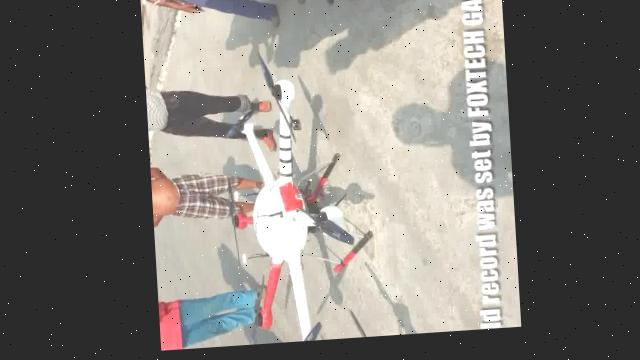drone: (223, 66, 366, 349)
